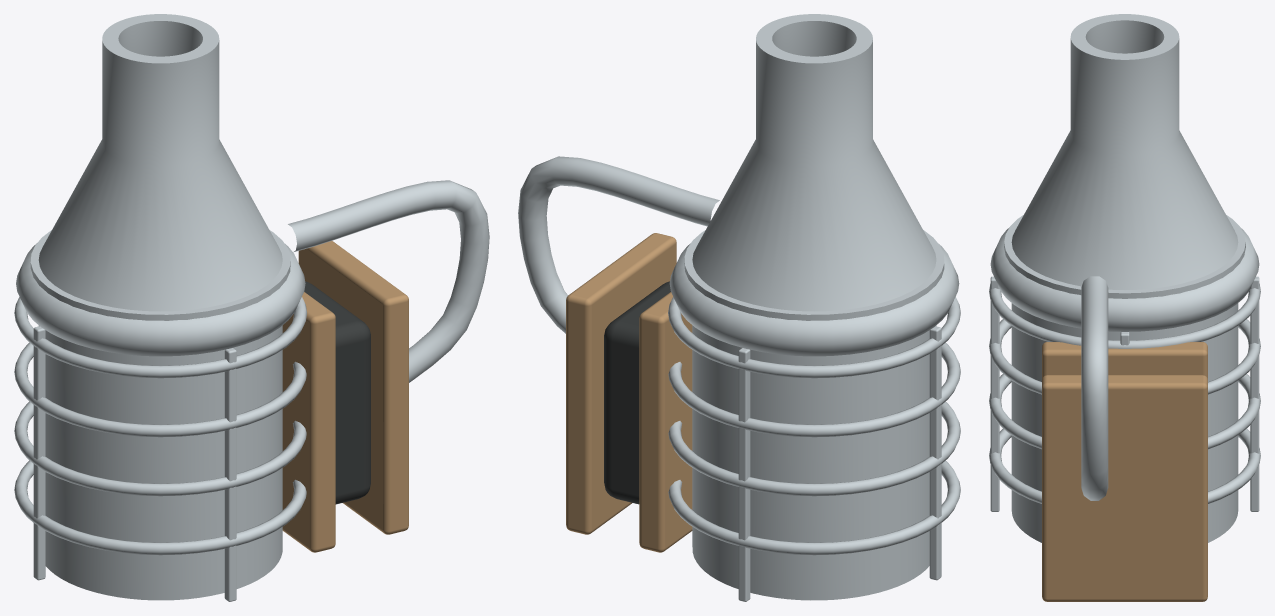
The model's file is beekeeping-and-honey-farm-smoker-6d8be458__30713.glb.
The picture shows the model from 3 angles, left to right: view 1: azimuth 30°, elevation 25°; view 2: azimuth 150°, elevation 25°; view 3: azimuth 270°, elevation 25°; orthographic projection. The views are drawn at different scales.
Parts seen in each view (by area): view 1: smoker; view 2: smoker; view 3: smoker.
Boxes of the visible parts, <box> form: smoker: <box>14,14,489,601</box>; smoker: <box>518,14,960,601</box>; smoker: <box>989,14,1260,601</box>.
Size of the model in its own units: 0.3103 by 0.346 by 0.18.
